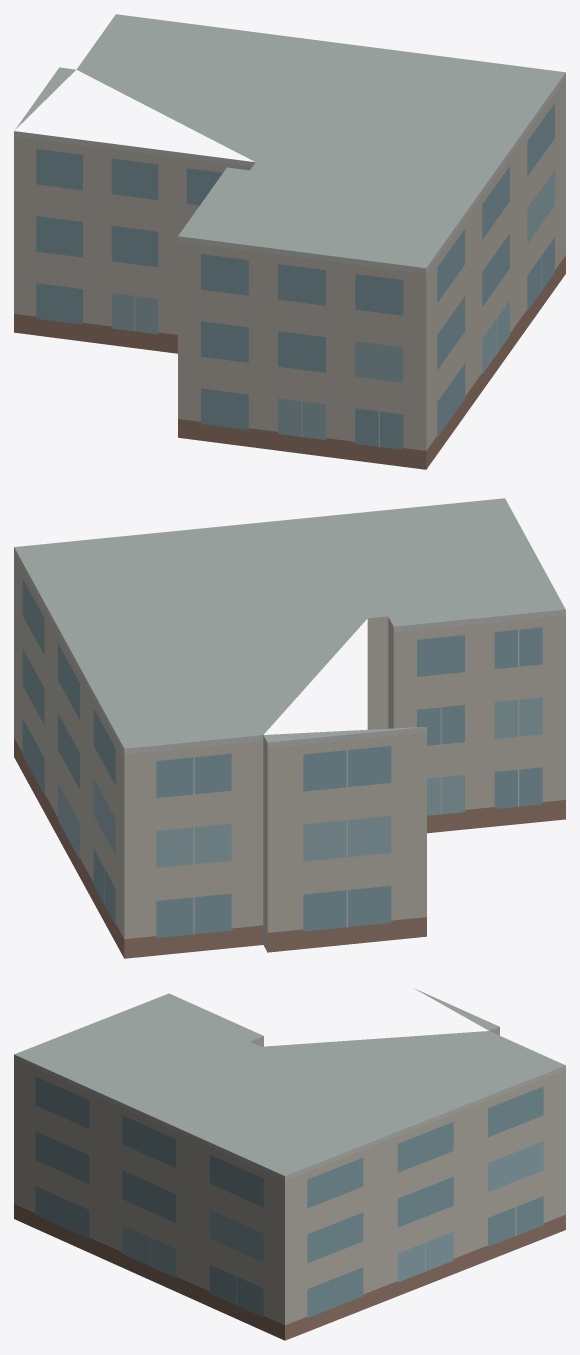
File: survey-upis-32885933.glb
3 views of the same model, one above another, from view 1: azimuth 30°, elevation 25°; view 2: azimuth 150°, elevation 25°; view 3: azimuth 270°, elevation 25° (orthographic). The views are drawn at different scales.
Visible parts, largest first — view 1: survey-upis-32885933.tmp; view 2: survey-upis-32885933.tmp; view 3: survey-upis-32885933.tmp.
Part boxes in pixels (box(x1,y1,x2,y2)): survey-upis-32885933.tmp: box(14, 14, 565, 469); survey-upis-32885933.tmp: box(14, 498, 565, 958); survey-upis-32885933.tmp: box(14, 988, 565, 1340).
Bounding box in the file's own units: 22.53 × 9.15 × 27.82.
